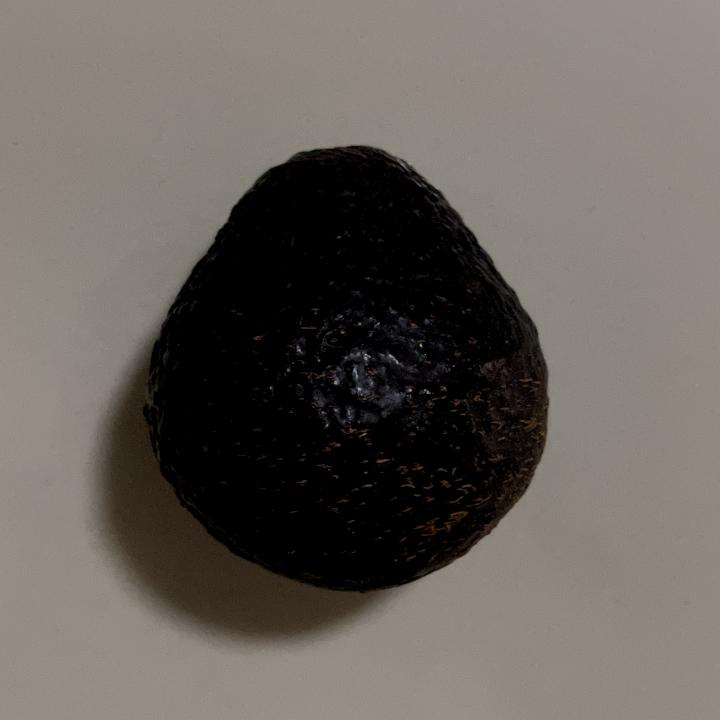Level3: (134, 138, 566, 600)
